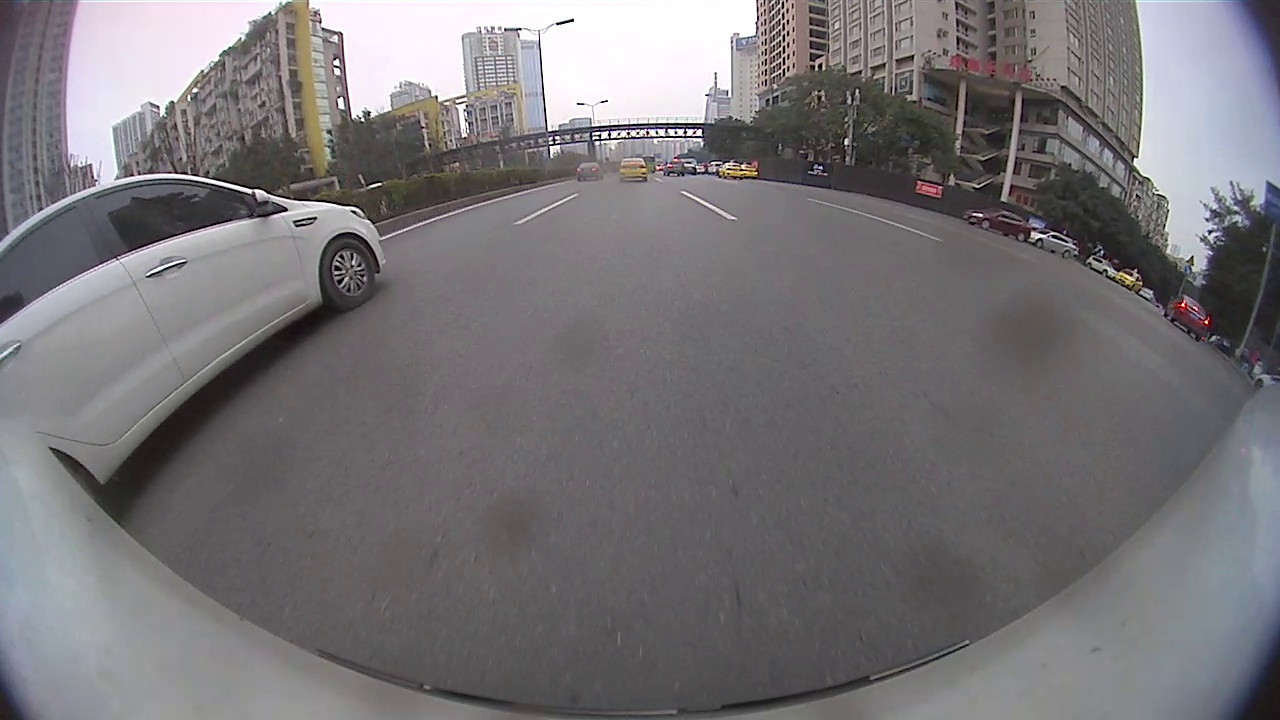car: (1, 174, 386, 488), (965, 207, 1033, 244), (1164, 292, 1212, 342), (1030, 228, 1078, 260), (617, 159, 649, 181), (574, 160, 603, 182), (719, 162, 743, 181), (664, 159, 688, 177), (739, 161, 761, 177)
front: (318, 236, 378, 308), (980, 217, 992, 232)
rear: (1018, 229, 1029, 244)
